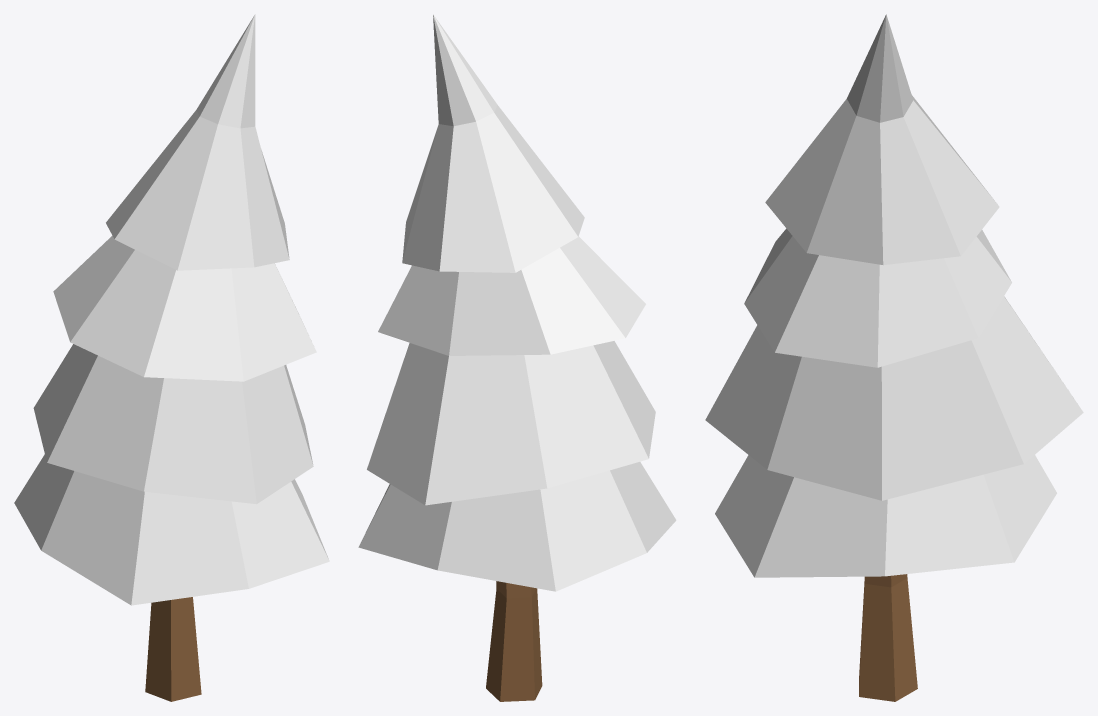
File: Fir_Tree_OneSided_m_Snow_06_LOD.fbx
3 views of the same model, side by side, from view 1: azimuth 30°, elevation 25°; view 2: azimuth 150°, elevation 25°; view 3: azimuth 270°, elevation 25° (orthographic). The views are drawn at different scales.
Parts seen in each view (by area): view 1: Fir_Tree_OneSided_m_Snow_06_LOD0; view 2: Fir_Tree_OneSided_m_Snow_06_LOD0; view 3: Fir_Tree_OneSided_m_Snow_06_LOD0.
Boxes of the visible parts, left/top/right/bottom form: Fir_Tree_OneSided_m_Snow_06_LOD0: left=14, top=14, right=329, bottom=701; Fir_Tree_OneSided_m_Snow_06_LOD0: left=358, top=14, right=676, bottom=701; Fir_Tree_OneSided_m_Snow_06_LOD0: left=705, top=14, right=1083, bottom=701.
Size of what is drawn, in the model's own units: 288 by 689 by 329.
